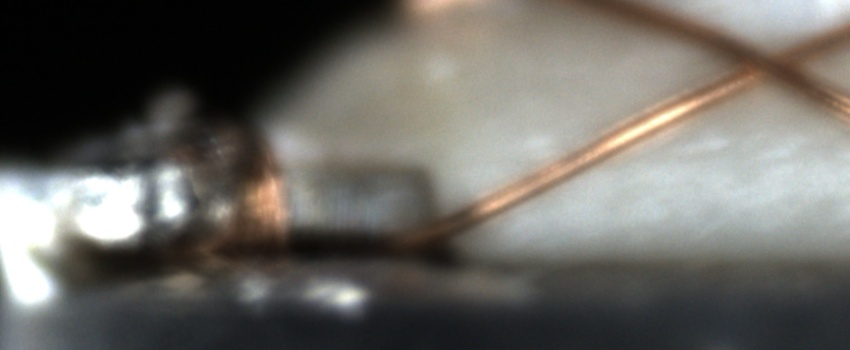CL: (715, 26, 814, 95)
DL: (493, 133, 740, 176)
TE: (194, 102, 292, 284)
